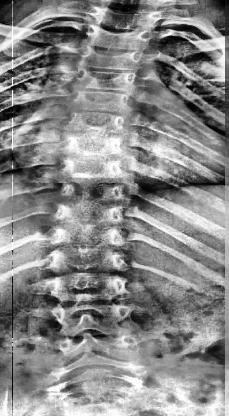Vertebrae: (52, 302, 136, 334), (53, 248, 137, 276), (53, 272, 131, 302), (57, 331, 139, 357), (55, 225, 129, 251), (55, 199, 127, 225), (84, 25, 154, 51), (92, 3, 161, 29), (76, 46, 150, 70), (56, 180, 128, 204), (52, 159, 128, 181), (65, 135, 133, 159), (68, 110, 132, 134), (73, 70, 139, 90), (68, 92, 136, 110)
